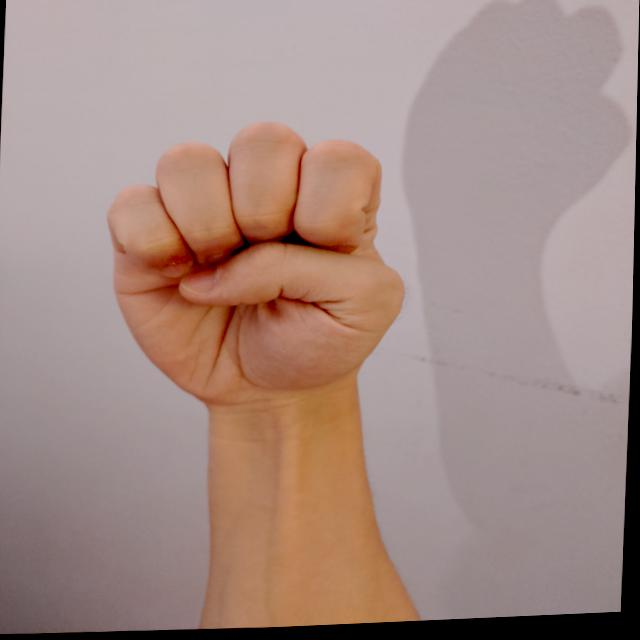E: (93, 112, 417, 417)
